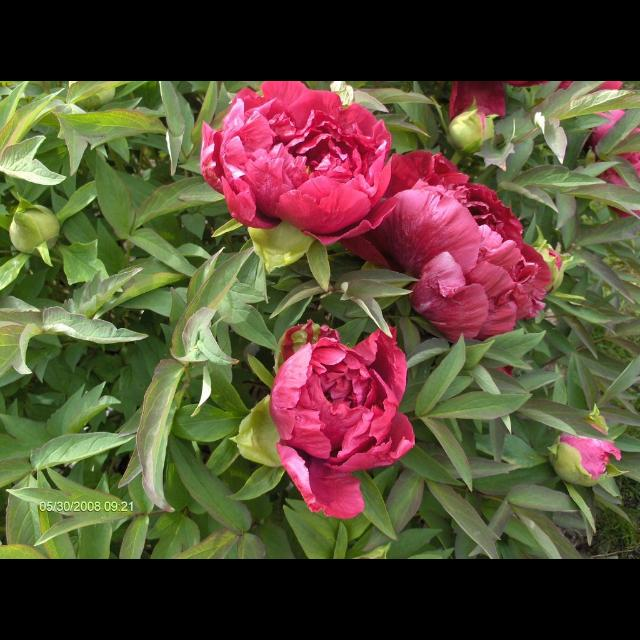Flower: (348, 149, 552, 347), (200, 82, 400, 245), (268, 320, 414, 518), (557, 81, 639, 219), (548, 408, 618, 488), (451, 81, 549, 122)
